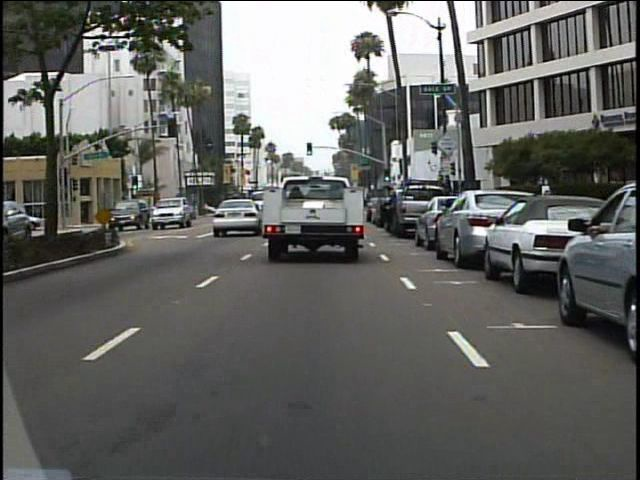person: (379, 184, 401, 235)
